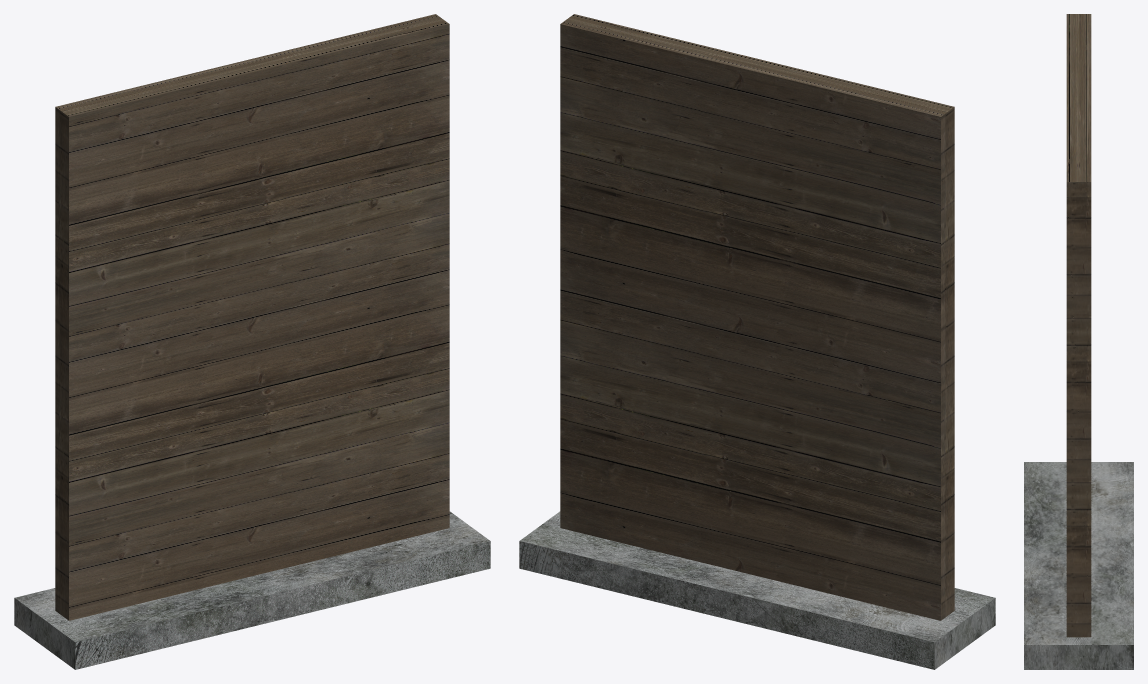
File: PenetrationTarget.fbx
3 renders of one model, left to right at view 1: azimuth 30°, elevation 25°; view 2: azimuth 150°, elevation 25°; view 3: azimuth 270°, elevation 25°, orthographic. The views are drawn at different scales.
Visible parts, largest first — view 1: Target, Base; view 2: Target, Base; view 3: Base, Target.
Part boxes in pixels (left/top/right/bottom): Target: left=55, top=14, right=449, bottom=620; Base: left=14, top=511, right=490, bottom=669; Target: left=560, top=14, right=954, bottom=620; Base: left=519, top=511, right=995, bottom=669; Base: left=1024, top=462, right=1133, bottom=669; Target: left=1066, top=14, right=1091, bottom=637.
Size of the model in its own units: 629 by 770 by 160.
